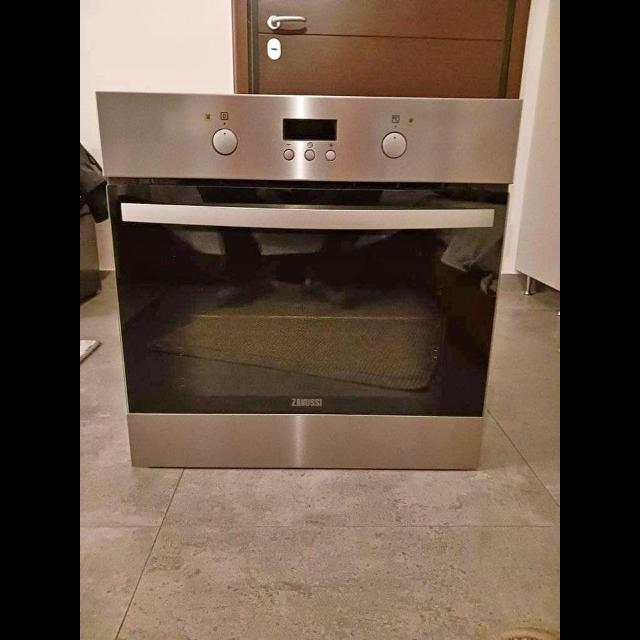Oven: (95, 91, 519, 478)
